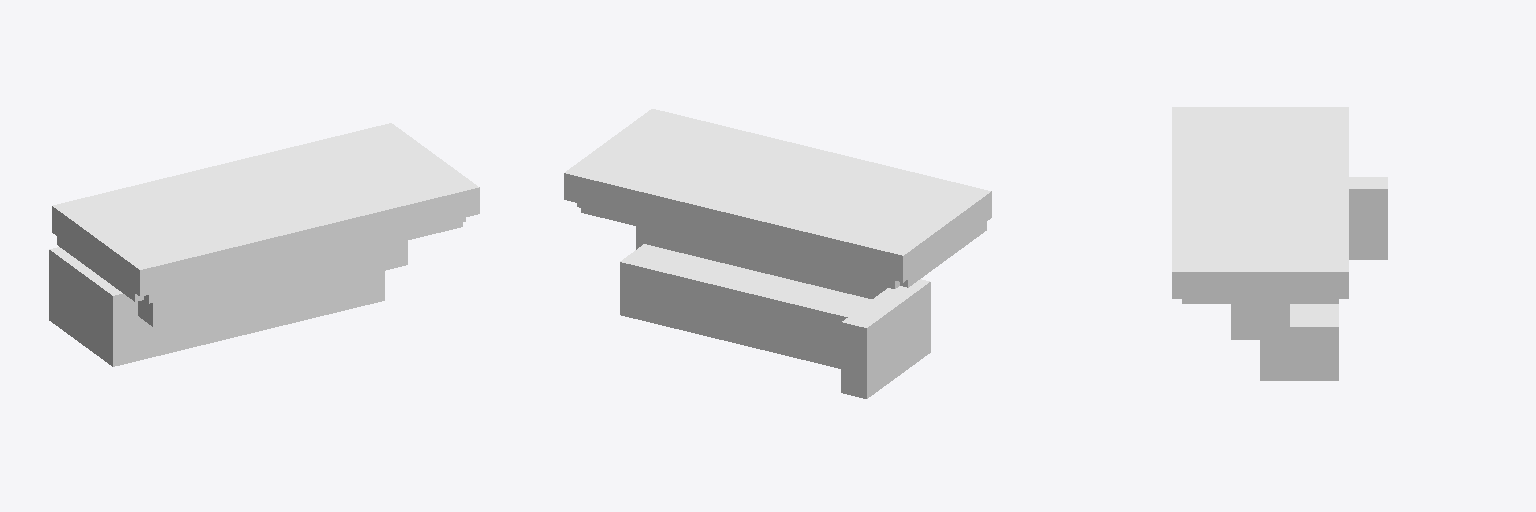
Rendered from ShopTable.obj.
The picture shows the model from 3 angles: view 1: azimuth 30°, elevation 25°; view 2: azimuth 150°, elevation 25°; view 3: azimuth 270°, elevation 25°; orthographic projection.
Visible parts, largest first — view 1: object 1; view 2: object 1; view 3: object 1.
Boxes of the visible parts, x1,y1,x2,y2 form: object 1: [49, 123, 479, 366]; object 1: [564, 109, 991, 398]; object 1: [1172, 107, 1387, 380].
Size of the model in its own units: 4 by 1.5 by 2.2.